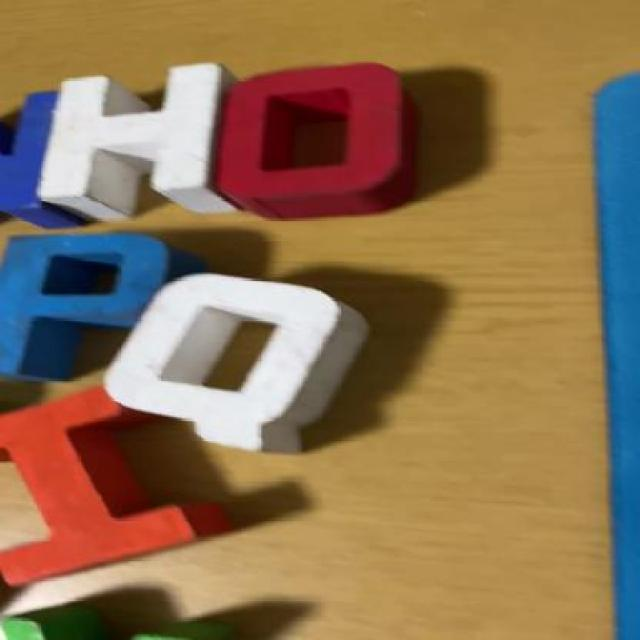H: (48, 59, 235, 221)
I: (0, 387, 226, 582)
O: (204, 60, 430, 215)
P: (0, 230, 192, 383)
Q: (111, 276, 364, 449)
